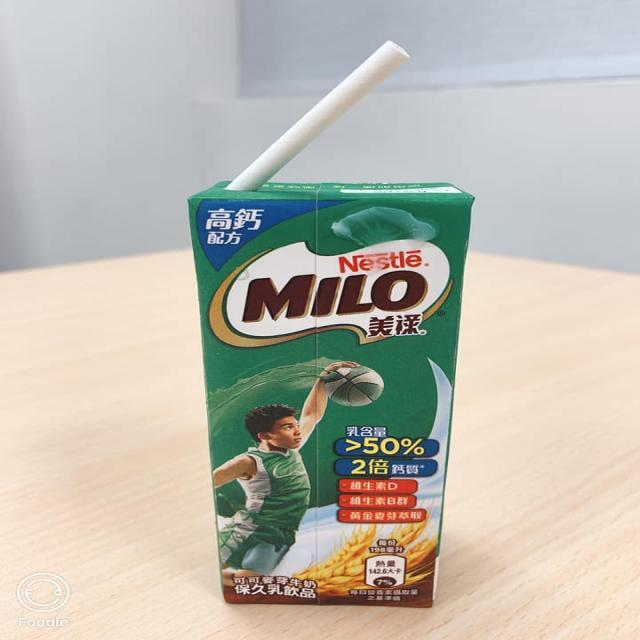cardboard: (170, 141, 497, 620)
